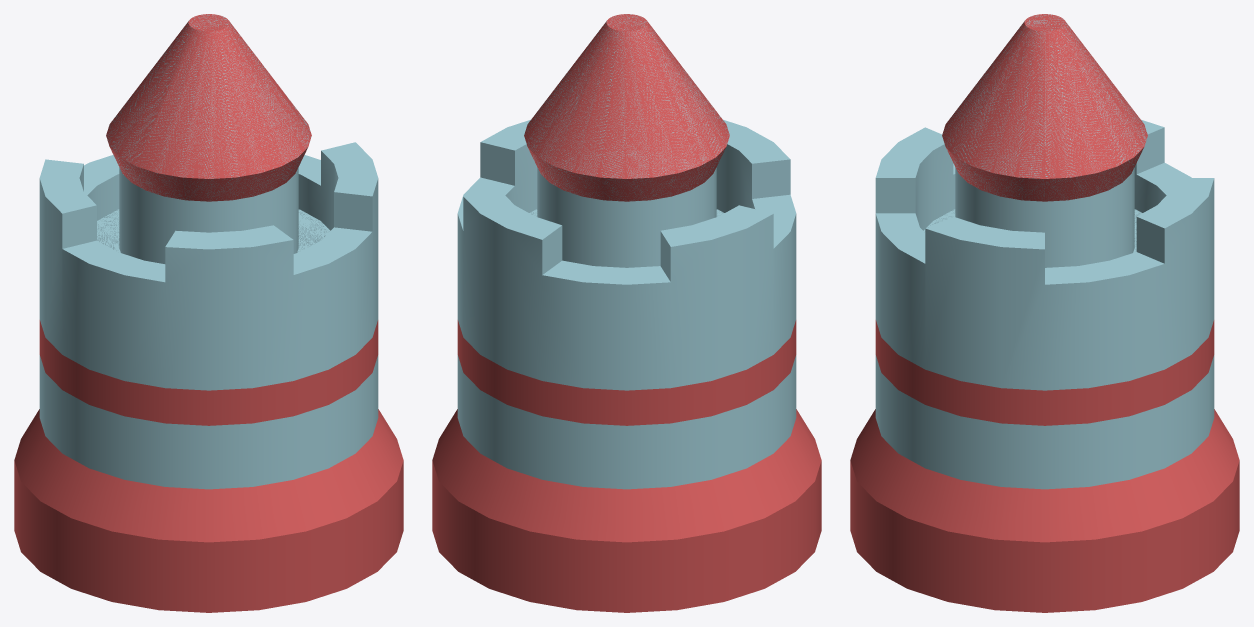
The model's file is towerRound_sampleD.dae.
3 renders of one model, left to right at view 1: azimuth 30°, elevation 25°; view 2: azimuth 150°, elevation 25°; view 3: azimuth 270°, elevation 25°, orthographic.
Parts seen in each view (by area): view 1: towerRound_sampleD; view 2: towerRound_sampleD; view 3: towerRound_sampleD.
Boxes of the visible parts, box(x1,y1,x2,y2) form: towerRound_sampleD: box(14, 14, 403, 612); towerRound_sampleD: box(432, 14, 821, 612); towerRound_sampleD: box(850, 14, 1239, 612).
Bounding box in the file's own units: 1 × 1.44 × 1.
